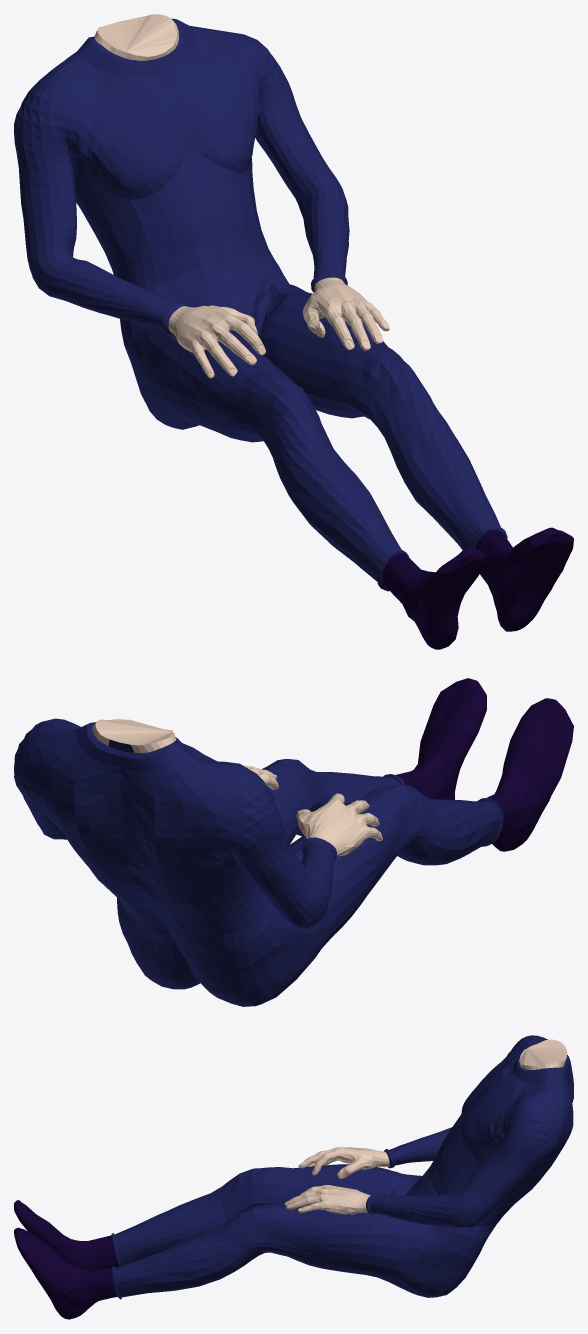
Rendered from Planet_Mesh.fbx.
3 renders of one model, top to bottom at view 1: azimuth 30°, elevation 25°; view 2: azimuth 150°, elevation 25°; view 3: azimuth 270°, elevation 25°, orthographic. The views are drawn at different scales.
Parts seen in each view (by area): view 1: Commander_Male_Emporer; view 2: Commander_Male_Emporer; view 3: Commander_Male_Emporer.
Boxes of the visible parts, x1,y1,x2,y2 form: Commander_Male_Emporer: (14, 14, 573, 649); Commander_Male_Emporer: (14, 678, 573, 1006); Commander_Male_Emporer: (14, 1035, 573, 1319).
Size of the model in its own units: 56.59 by 66.77 by 133.
